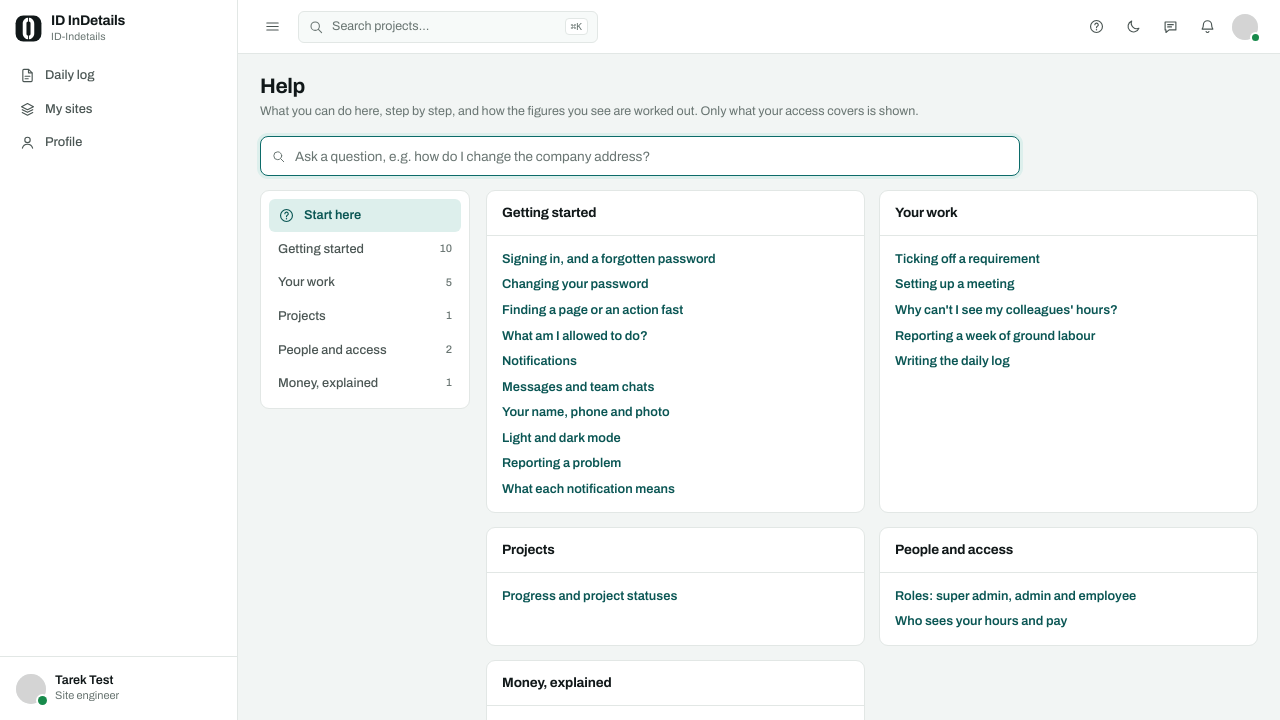
Scenario: the Help page › lists only the topics a person has something in
Expected: the button "Your work 5" is shown, [269,266,461,299]
the one money article they get is how the costs they record add up
Click the button "Money, explained 1" at (365, 383), box [269,367,461,400]
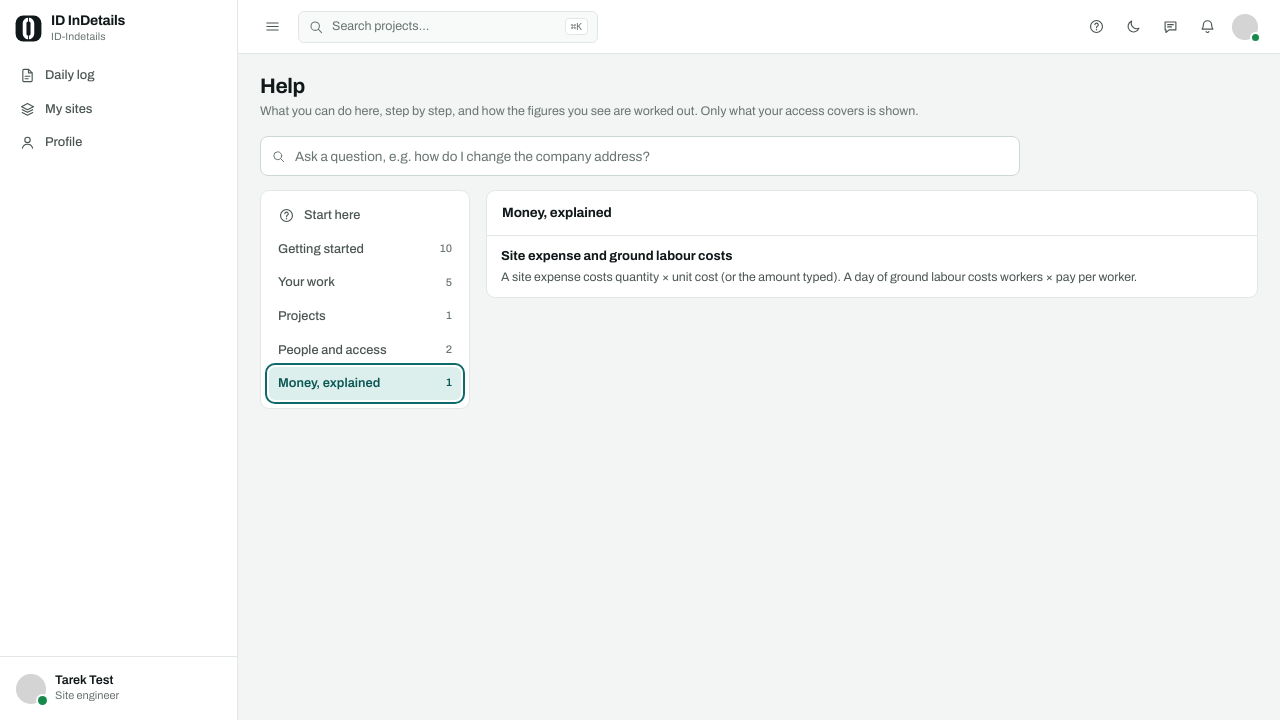
Expected: the number of buttons "Site expense and ground labour costs" is 1, [487,236,1257,297]
